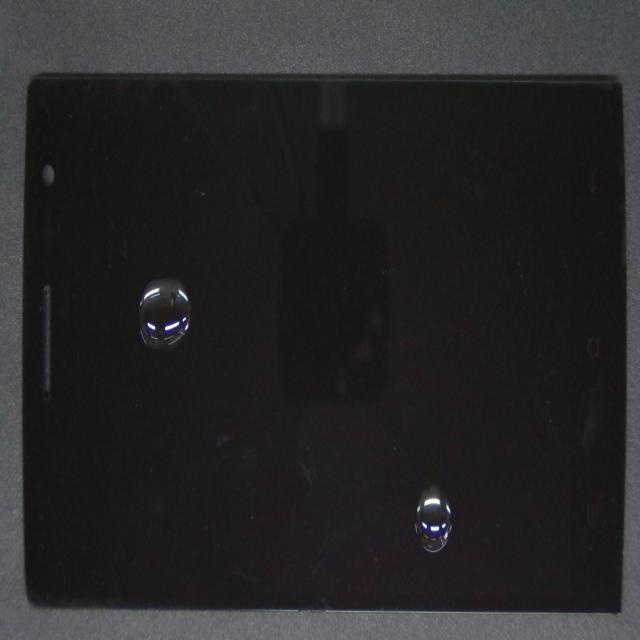oil: (234, 272, 640, 640), (109, 166, 269, 435)
